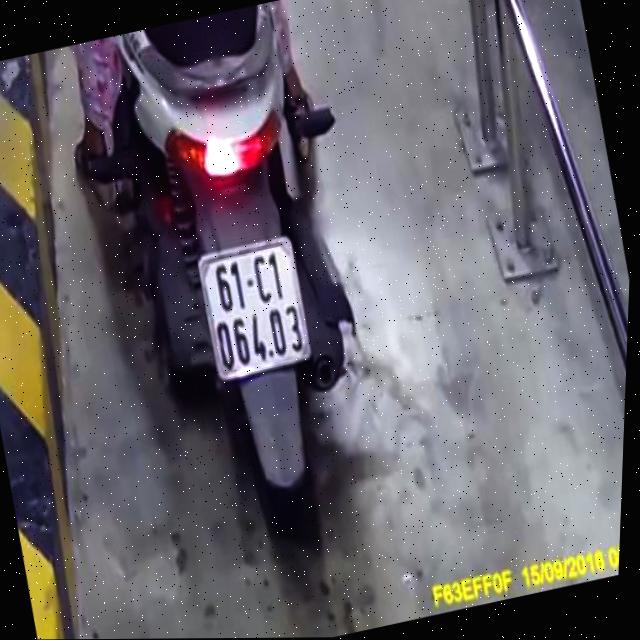motorcycle: (58, 0, 456, 587)
plate: (183, 225, 329, 390)
